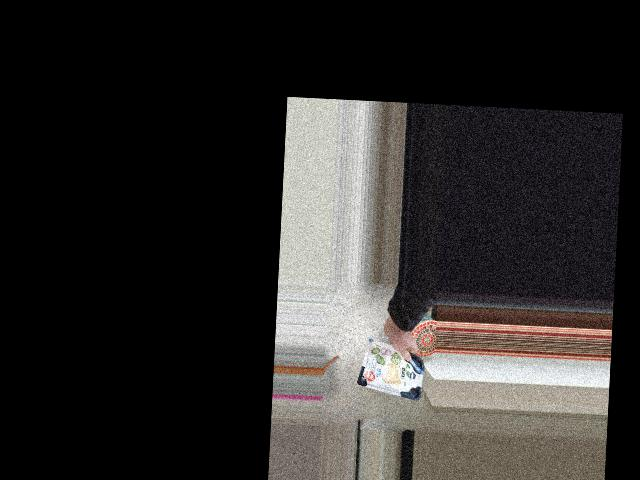cheese: (356, 344, 429, 395)
